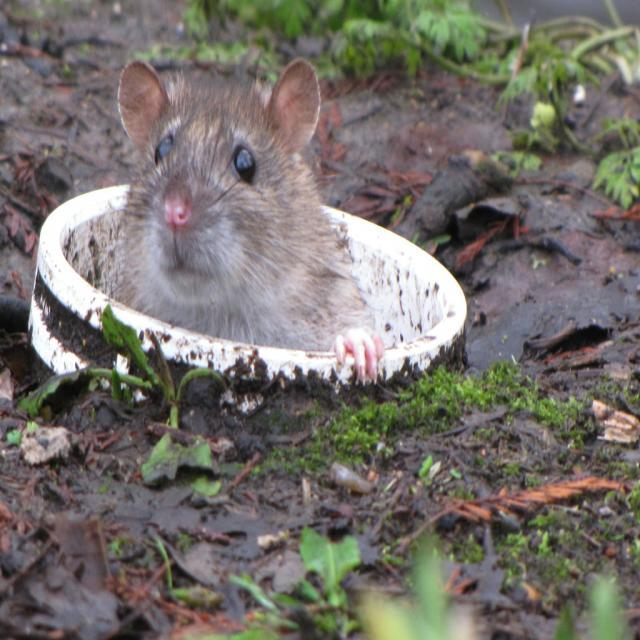rat: (76, 42, 394, 340)
